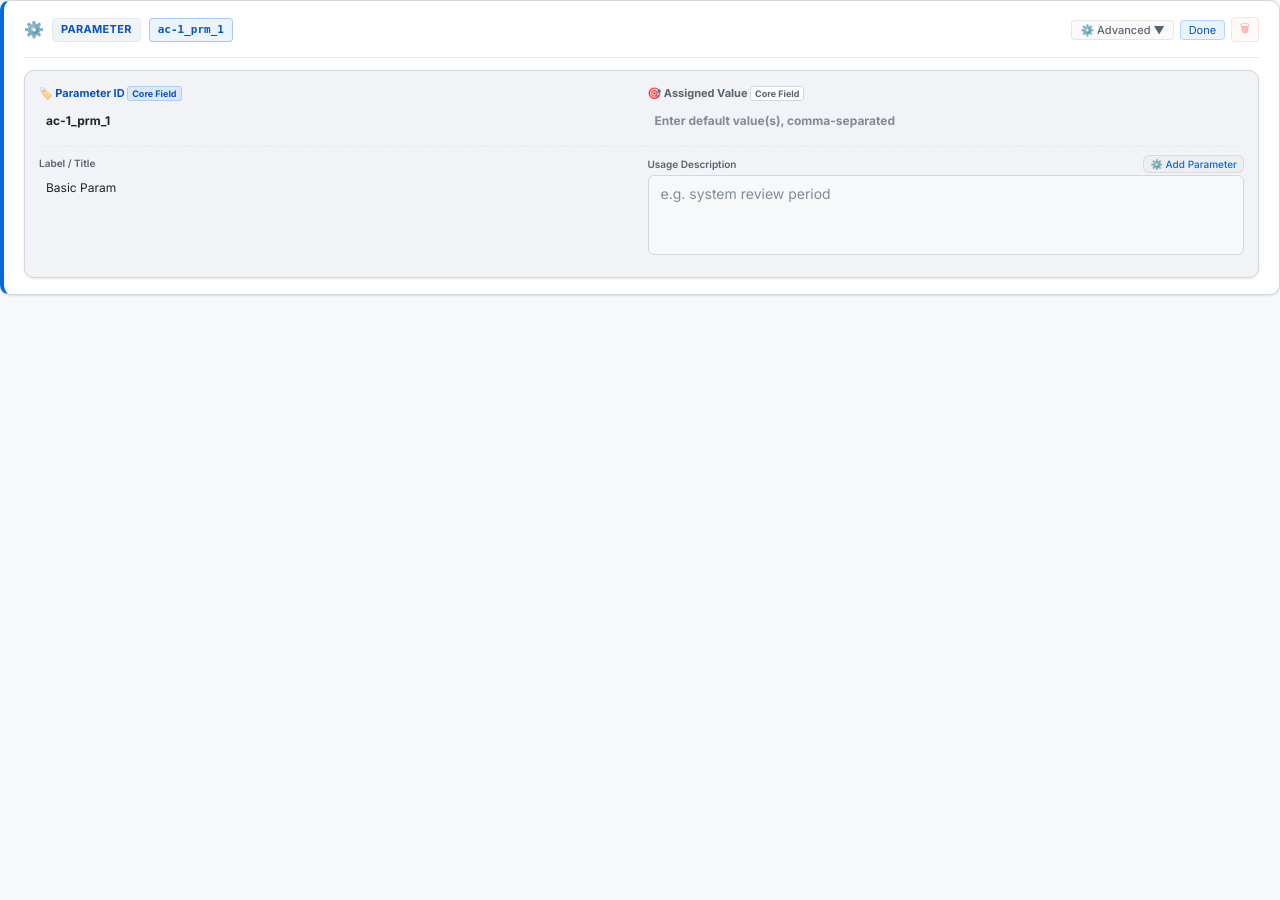
Test: ParameterCard Component › Rendering (Catalog vs Profile Mode) › renders PARAMETER badge and toggles advanced settings in edit mode
expect the text "PARAMETER" is shown: met, box [61, 21, 132, 39]
expect the text "⚙️ Advanced & Optional Metadata" is not shown: met
Toggle advanced metadata
Click the button titled "toggle optional/advanced parameter metadata" at (1123, 30), box [1072, 20, 1174, 40]
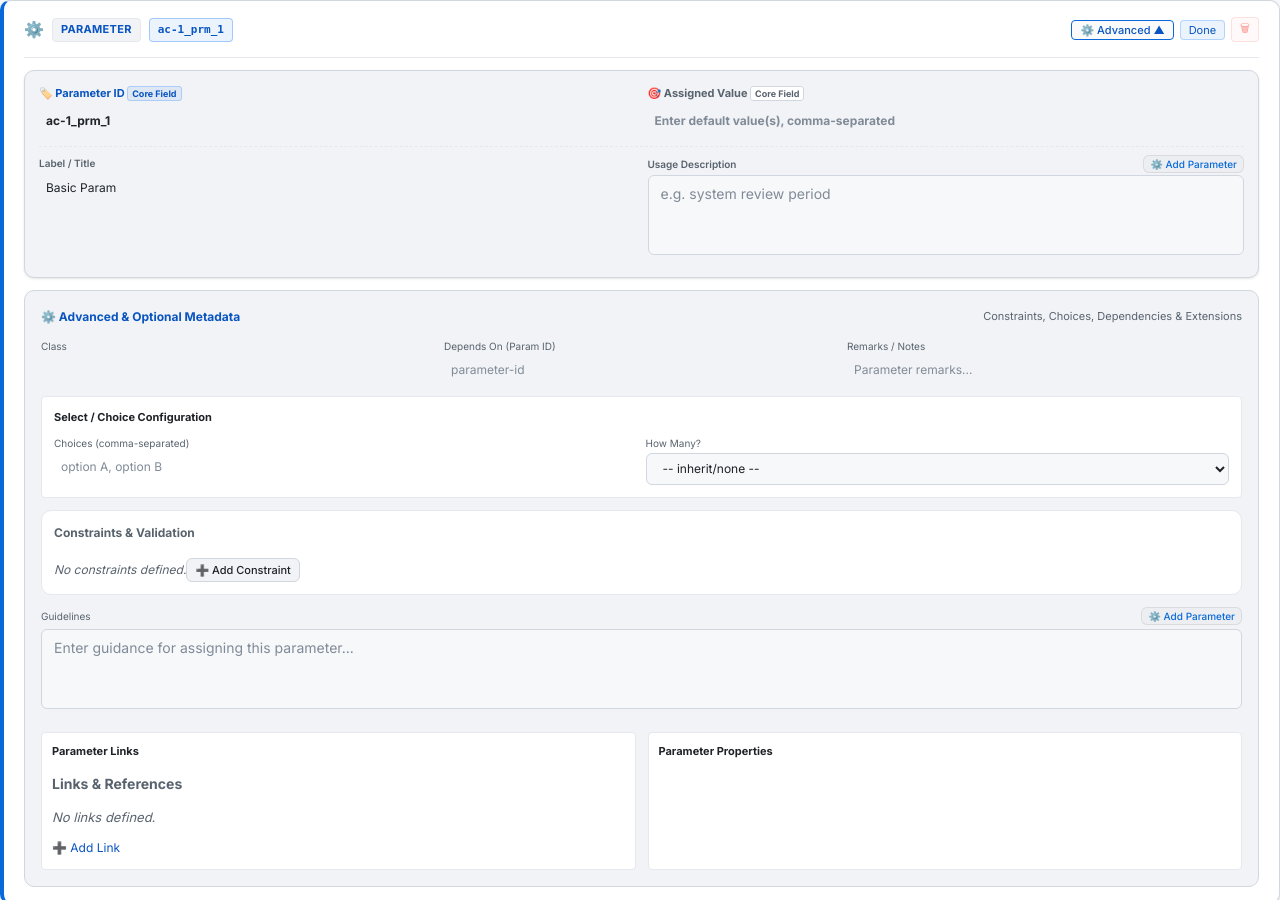
expect the text "⚙️ Advanced & Optional Metadata" is shown: met, box [41, 307, 240, 326]
Toggle again to collapse
Click the button titled "toggle optional/advanced parameter metadata" at (1123, 30), box [1072, 20, 1174, 40]
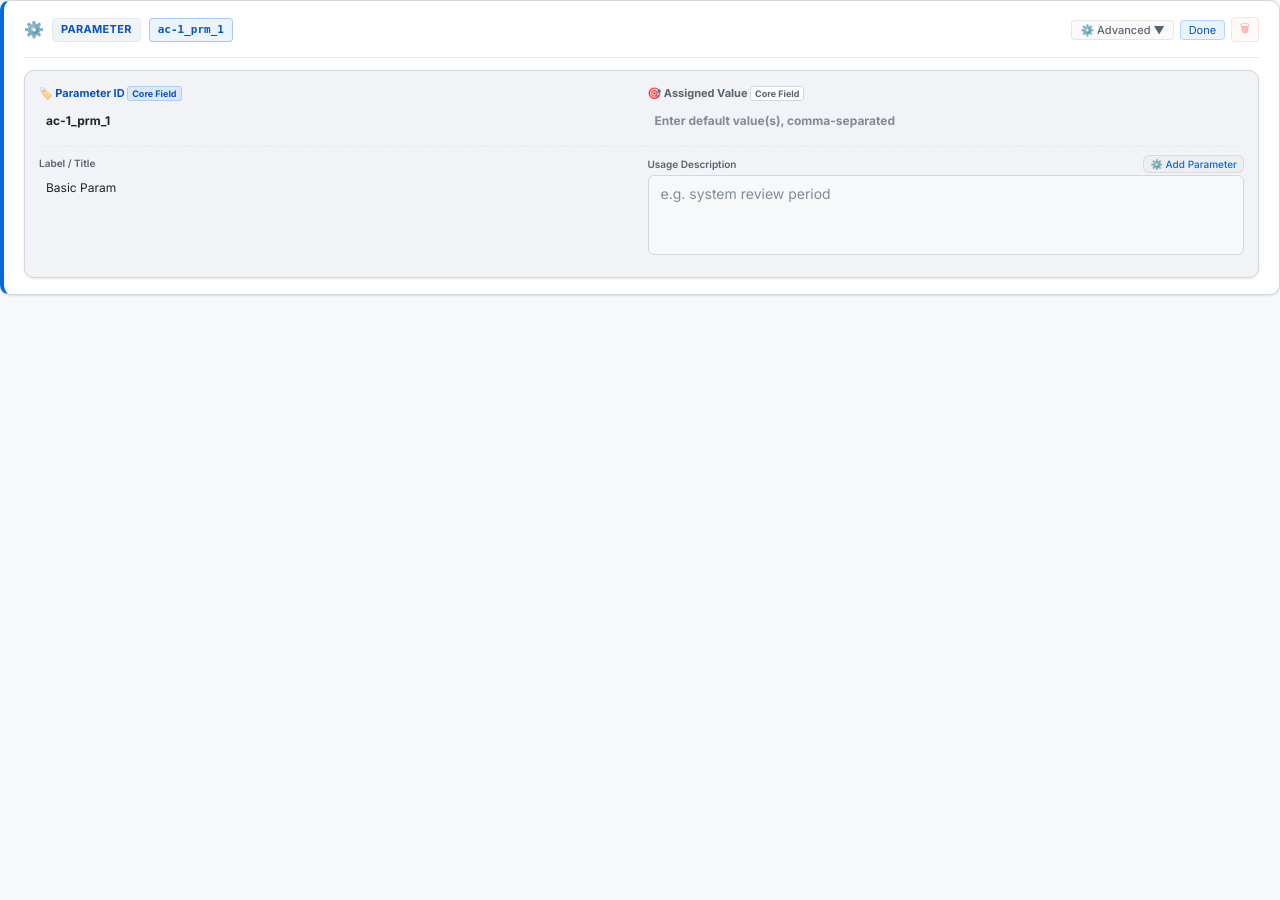
expect the text "⚙️ Advanced & Optional Metadata" is gone: met
